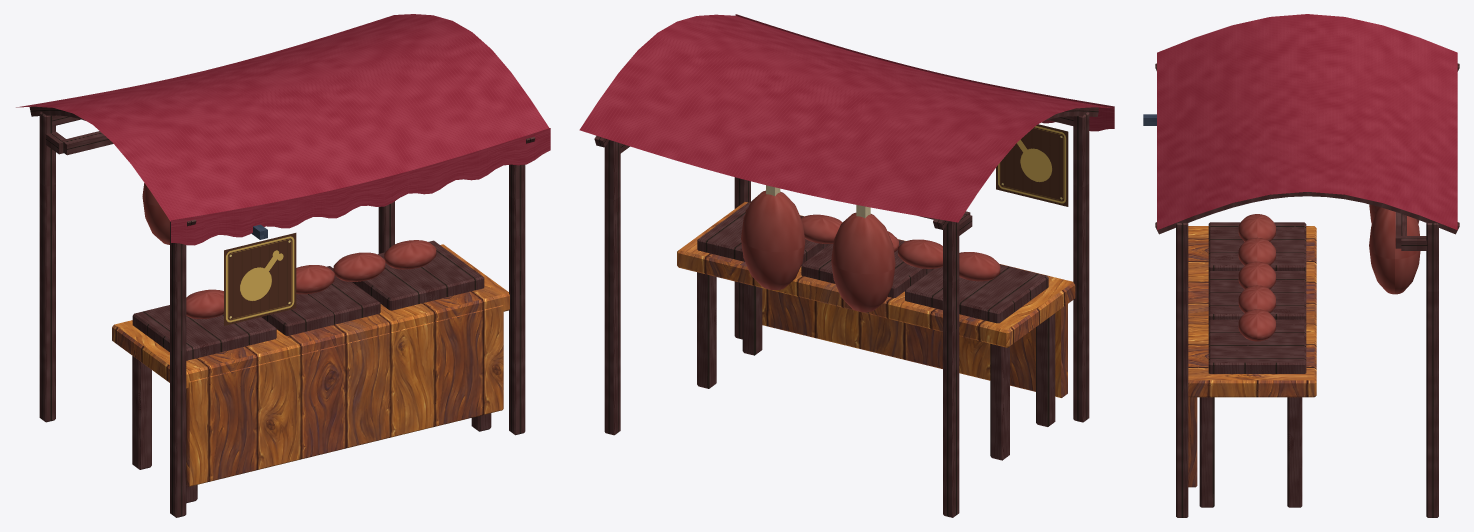
The model's file is Butcher_Stall.fbx.
3 views of the same model, side by side, from view 1: azimuth 30°, elevation 25°; view 2: azimuth 150°, elevation 25°; view 3: azimuth 270°, elevation 25° (orthographic). The views are drawn at different scales.
Visible parts, largest first — view 1: Draped stitched awning.002, Counter front.002, Scalloped canvas hem.002, Counter top.002, Painted shop sign.002, Canopy post.009, Canopy post.008, Canopy post.010, Display tray.008, Display tray.006, Display tray.007, Counter leg.009 (+7 smaller); view 2: Draped stitched awning.002, Counter front.002, Counter top.002, Canopy post.008, Hanging cured ham.001, Hanging cured ham, Canopy post.009, Canopy post.011, Painted shop sign.002, Display tray.006, Counter leg.009, Counter leg.011 (+9 smaller); view 3: Draped stitched awning.002, Counter top.002, Display tray.008, Canopy post.010, Canopy post.011, Display tray.006, Display tray.007, Hanging cured ham.001, Counter leg.010, Counter leg.011, Butcher cut.004, Counter front.002 (+5 smaller).
Part boxes in pixels (x1=…): Draped stitched awning.002: x1=16, y1=14, x2=549, y2=221; Counter front.002: x1=186, y1=305, x2=503, y2=486; Scalloped canvas hem.002: x1=171, y1=128, x2=550, y2=245; Counter top.002: x1=112, y1=244, x2=509, y2=388; Painted shop sign.002: x1=224, y1=233, x2=296, y2=325; Canopy post.009: x1=39, y1=111, x2=55, y2=422; Canopy post.008: x1=170, y1=221, x2=186, y2=517; Canopy post.010: x1=509, y1=164, x2=525, y2=435; Display tray.008: x1=352, y1=240, x2=484, y2=310; Display tray.006: x1=132, y1=305, x2=276, y2=360; Display tray.007: x1=261, y1=266, x2=380, y2=335; Counter leg.009: x1=132, y1=356, x2=151, y2=469; Draped stitched awning.002: x1=579, y1=14, x2=1113, y2=222; Counter front.002: x1=762, y1=288, x2=1067, y2=397; Counter top.002: x1=677, y1=202, x2=1075, y2=347; Canopy post.008: x1=1073, y1=112, x2=1089, y2=422; Hanging cured ham.001: x1=741, y1=190, x2=805, y2=290; Hanging cured ham: x1=831, y1=212, x2=895, y2=312; Canopy post.009: x1=943, y1=221, x2=959, y2=517; Canopy post.011: x1=604, y1=140, x2=620, y2=435; Painted shop sign.002: x1=996, y1=124, x2=1068, y2=206; Display tray.006: x1=905, y1=264, x2=1048, y2=323; Counter leg.009: x1=990, y1=344, x2=1009, y2=460; Counter leg.011: x1=697, y1=272, x2=716, y2=388; Draped stitched awning.002: x1=1157, y1=14, x2=1457, y2=230; Counter top.002: x1=1188, y1=226, x2=1316, y2=397; Display tray.008: x1=1208, y1=319, x2=1306, y2=373; Canopy post.010: x1=1176, y1=223, x2=1188, y2=517; Canopy post.011: x1=1426, y1=223, x2=1438, y2=517; Display tray.006: x1=1208, y1=222, x2=1306, y2=272; Display tray.007: x1=1208, y1=271, x2=1306, y2=320; Hanging cured ham.001: x1=1369, y1=207, x2=1420, y2=294; Counter leg.010: x1=1199, y1=397, x2=1214, y2=507; Counter leg.011: x1=1287, y1=397, x2=1302, y2=507; Butcher cut.004: x1=1238, y1=309, x2=1275, y2=341; Counter front.002: x1=1188, y1=397, x2=1197, y2=487.
Size of the model in its own units: 336 by 294 by 253.
